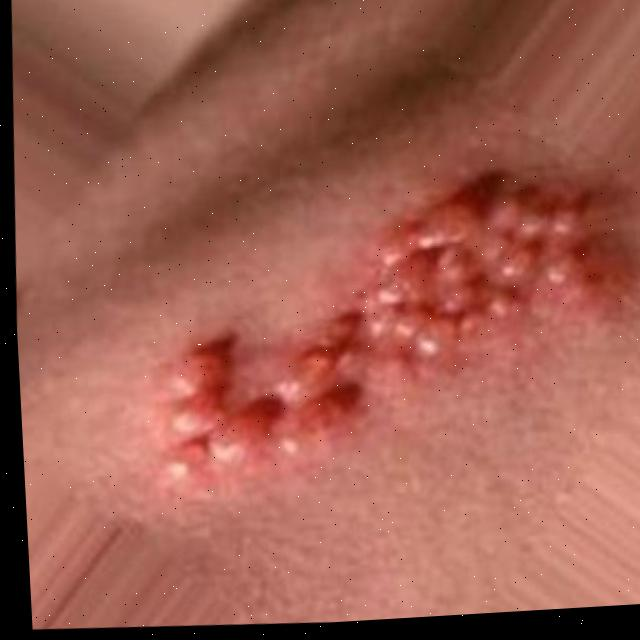Shingles: (148, 154, 633, 494)
